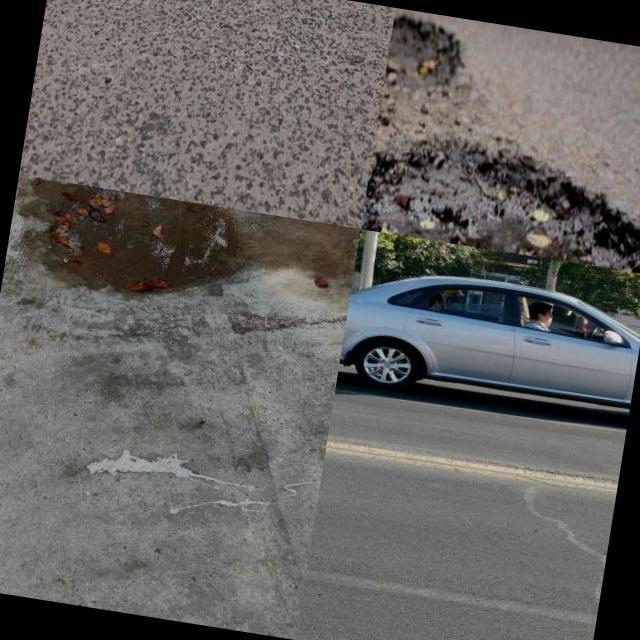Pothole: (361, 145, 640, 273), (51, 187, 242, 290), (384, 15, 462, 89)
